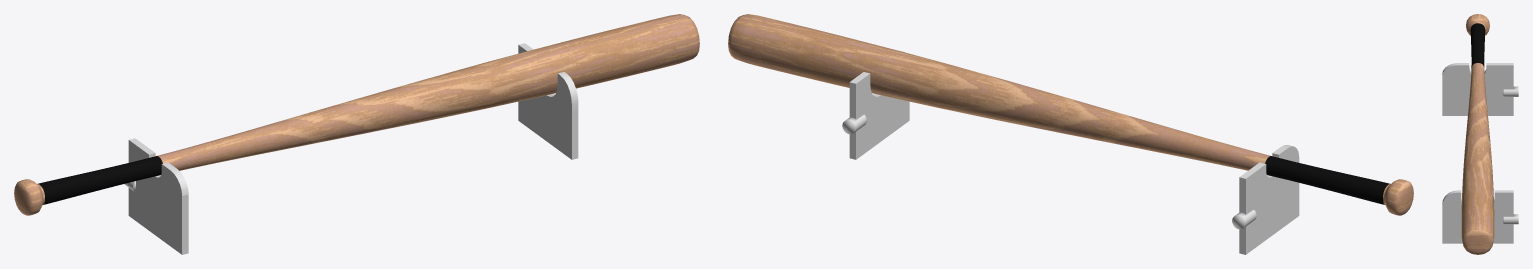
Rendered from dlX - Baseball Bat (Wall).fbx.
The picture shows the model from 3 angles, left to right: view 1: azimuth 30°, elevation 25°; view 2: azimuth 150°, elevation 25°; view 3: azimuth 270°, elevation 25°; orthographic projection. The views are drawn at different scales.
Parts seen in each view (by area): view 1: BaseBall_Bat, Mounts; view 2: BaseBall_Bat, Mounts, Cylinder; view 3: BaseBall_Bat, Mounts, Cylinder.
Part boxes in pixels (bbox=[...]): BaseBall_Bat: bbox=[14, 14, 699, 215]; Mounts: bbox=[128, 43, 578, 254]; BaseBall_Bat: bbox=[728, 14, 1413, 215]; Mounts: bbox=[849, 51, 1299, 254]; Cylinder: bbox=[842, 114, 1256, 229]; BaseBall_Bat: bbox=[1461, 14, 1494, 254]; Mounts: bbox=[1442, 63, 1513, 243]; Cylinder: bbox=[1503, 86, 1518, 224].
Size of the model in its own units: 102 by 13.21 by 15.
Materials: 4 (1 with a texture image).
